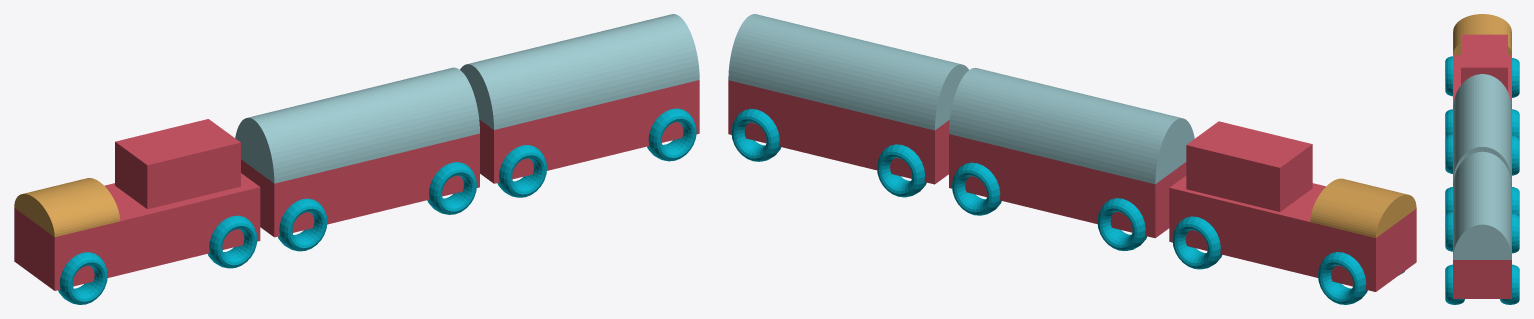
The model's file is Amazing Jaagub.glb.
The picture shows the model from 3 angles, left to right: view 1: azimuth 30°, elevation 25°; view 2: azimuth 150°, elevation 25°; view 3: azimuth 270°, elevation 25°; orthographic projection. The views are drawn at different scales.
Visible parts, largest first — view 1: Mesh_Mesh_head_geo.001_lambert2SG.001; view 2: Mesh_Mesh_head_geo.001_lambert2SG.001; view 3: Mesh_Mesh_head_geo.001_lambert2SG.001.
Boxes of the visible parts, x1,y1,x2,y2 form: Mesh_Mesh_head_geo.001_lambert2SG.001: [14, 14, 699, 304]; Mesh_Mesh_head_geo.001_lambert2SG.001: [728, 14, 1416, 304]; Mesh_Mesh_head_geo.001_lambert2SG.001: [1445, 14, 1519, 304].
Size of the model in its own units: 138 by 25 by 19.
